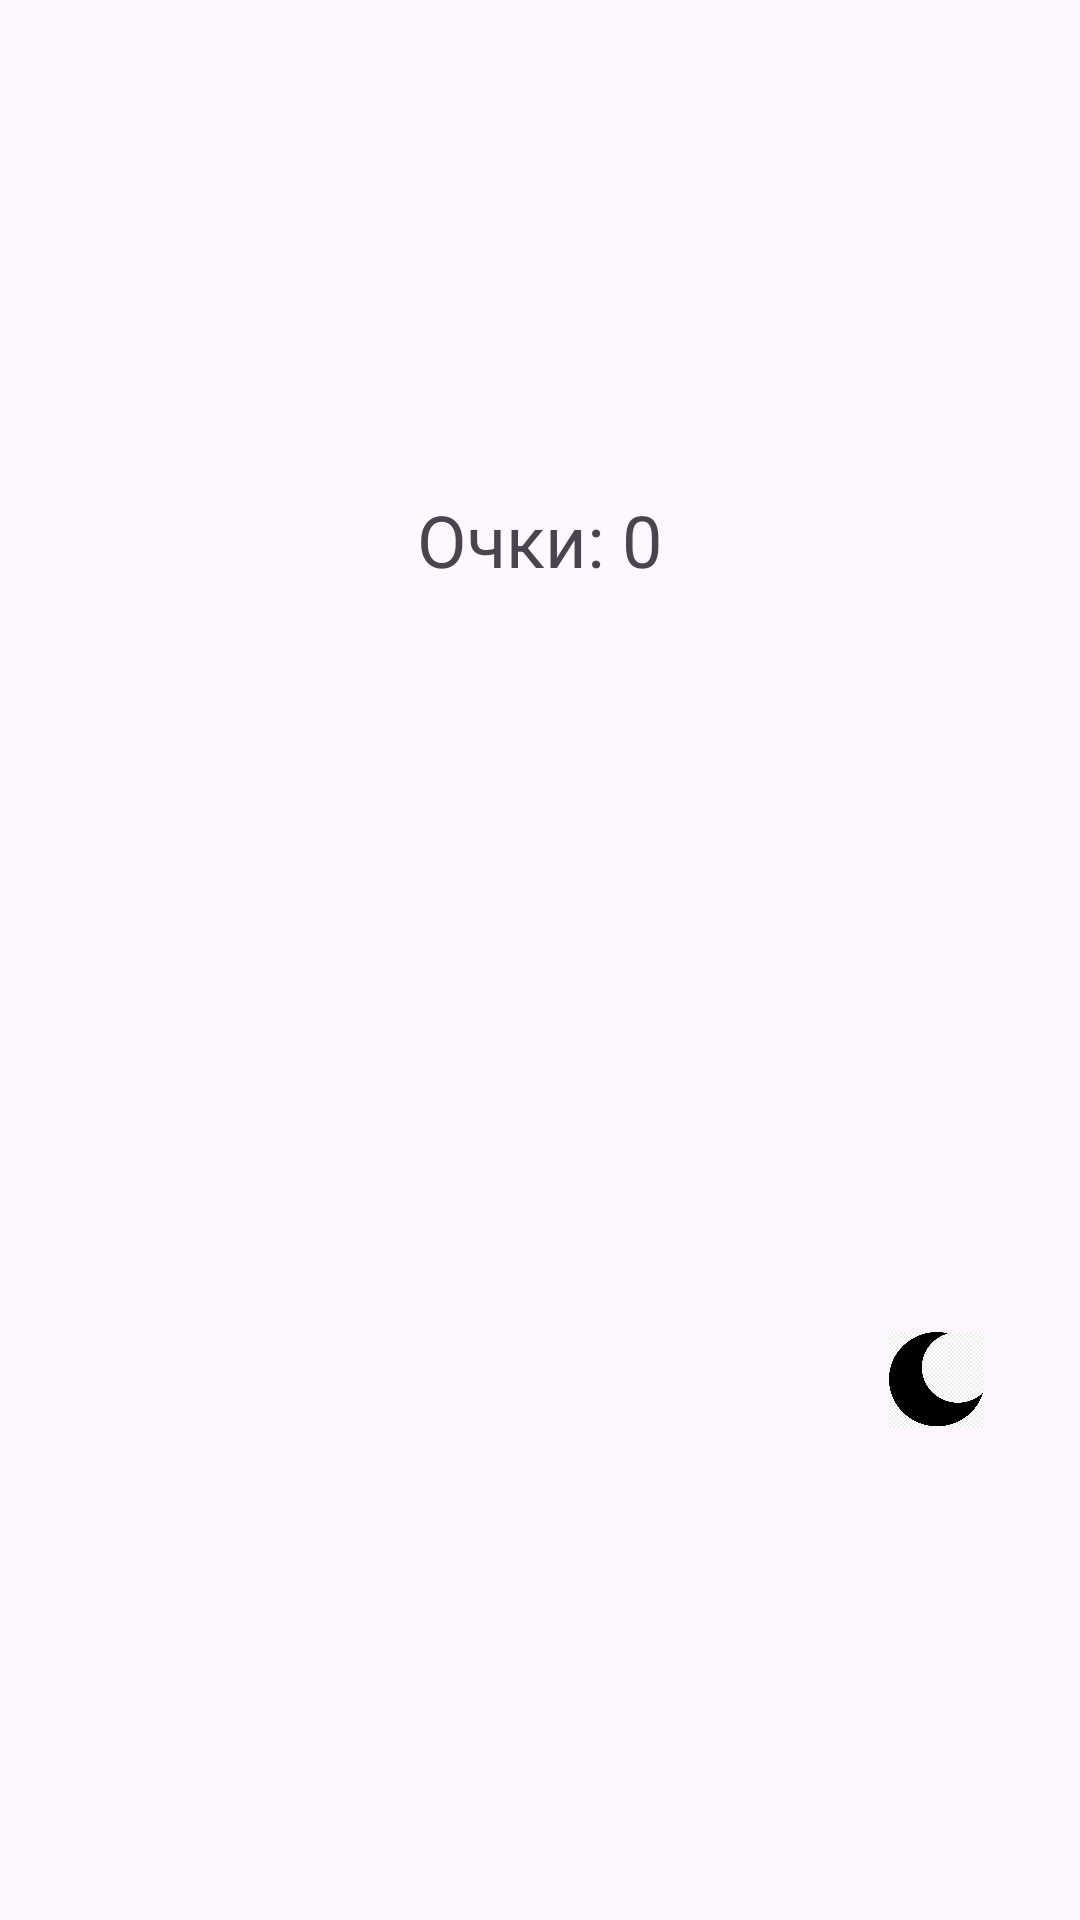

Icons on this 1080px×1920px Android screen, each with the point to tap as (x,y):
Смена темы: (936,1380)
